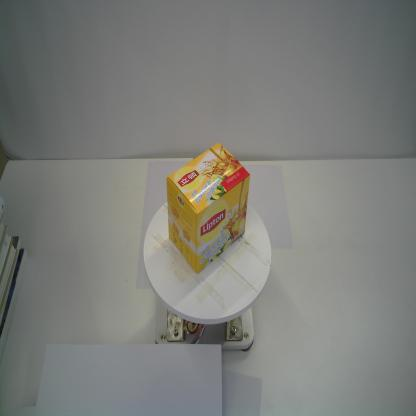Instant Drink: (165, 141, 251, 276)
